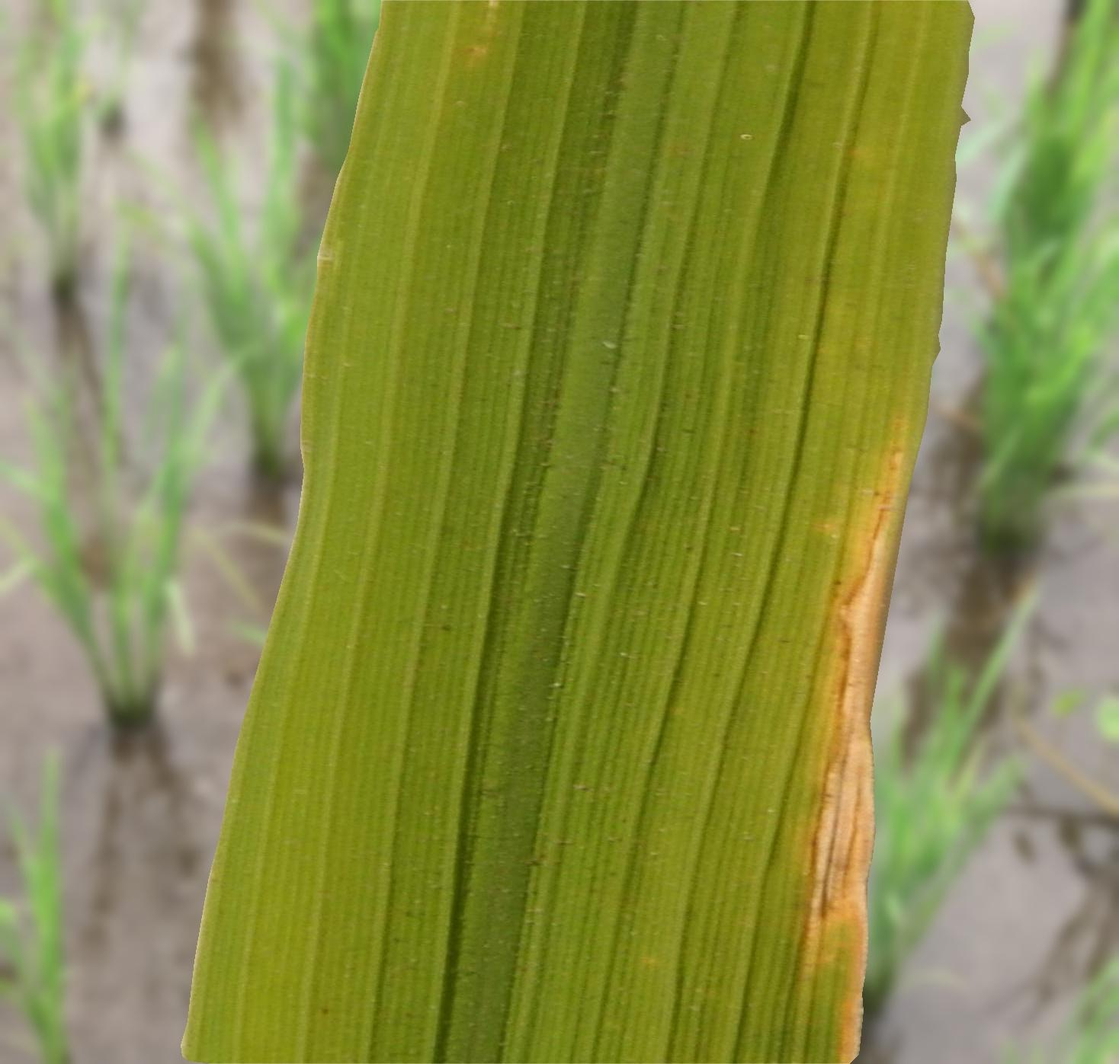BLS: (806, 445, 905, 1063)
LEAF: (181, 0, 974, 1063)
